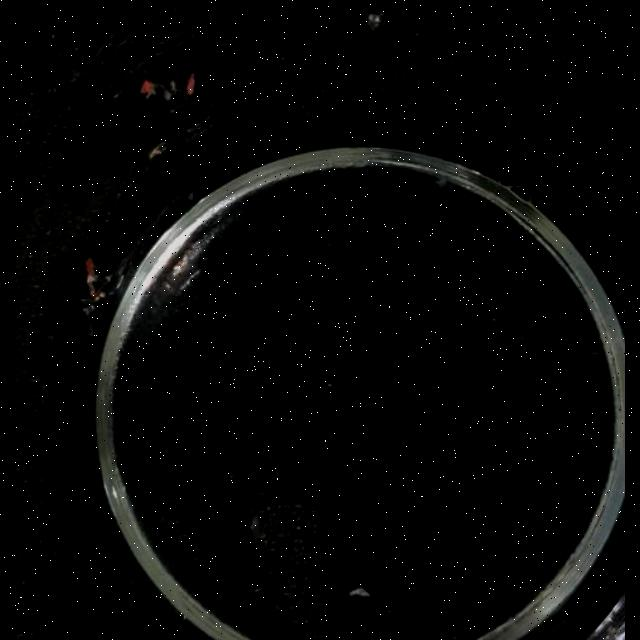Fragment: (136, 66, 206, 116), (78, 258, 108, 312)
microbeads: (348, 586, 370, 598), (326, 382, 334, 388)
